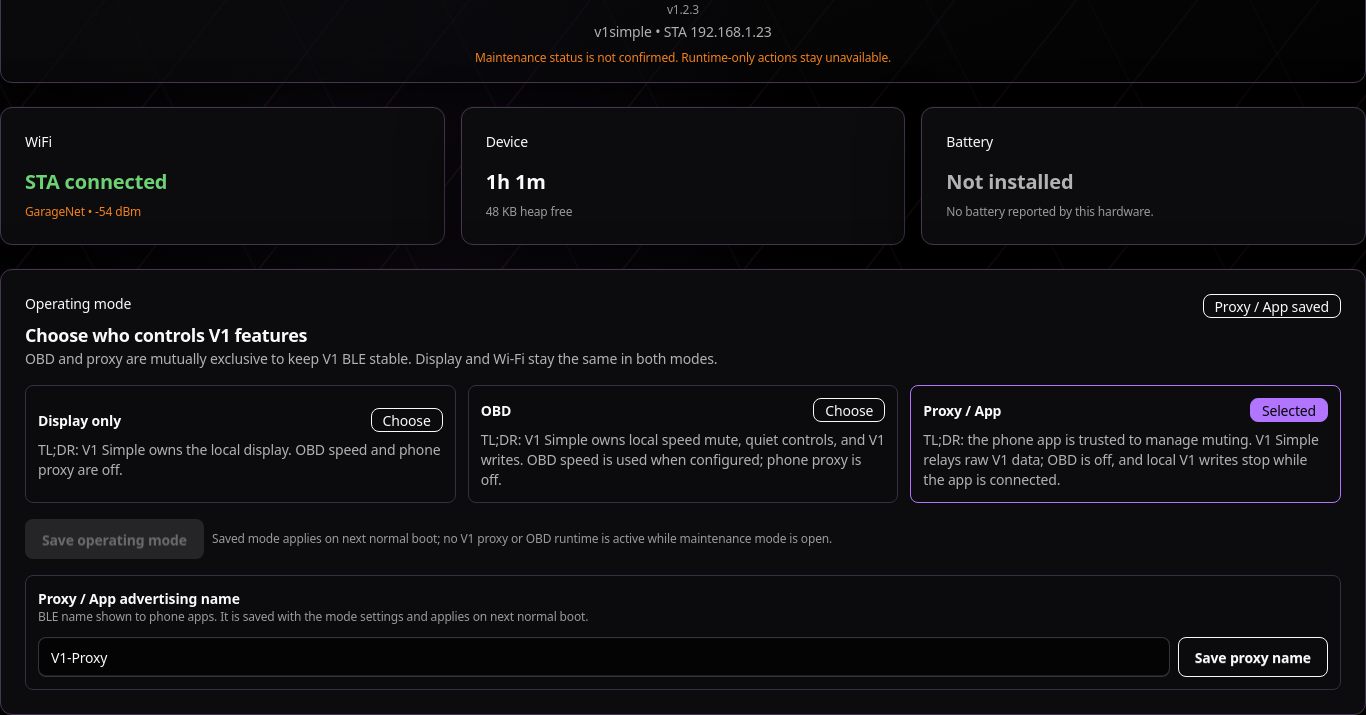
Test: dashboard route page › saves the proxy advertising name from the dashboard mode card
(page scrolled)
Expected: the text "Proxy / App saved" is shown, [1202,294,1341,318]
Replace the text in the field named "Proxy Name" with "Garage Proxy": (604, 657) [38,637,1170,677]
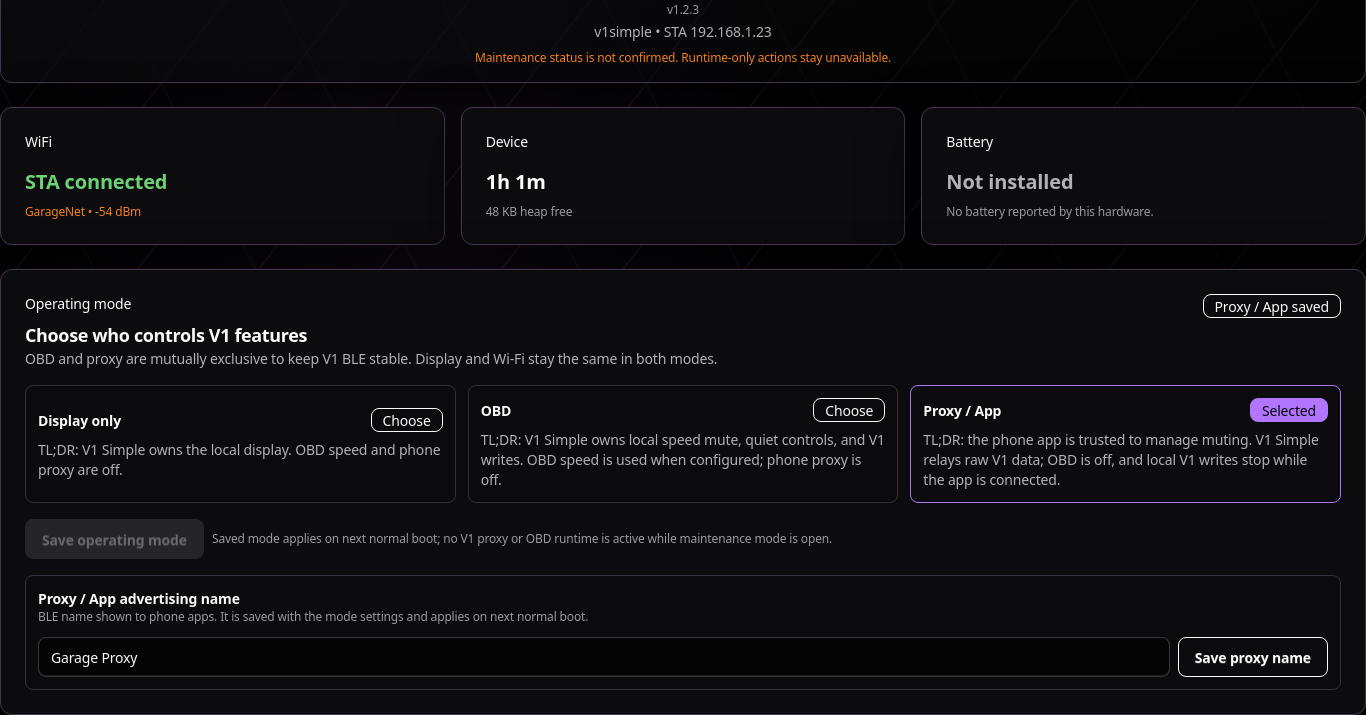
Click the button "Save proxy name": click(1253, 657) [1178,637,1328,677]
(page scrolled)
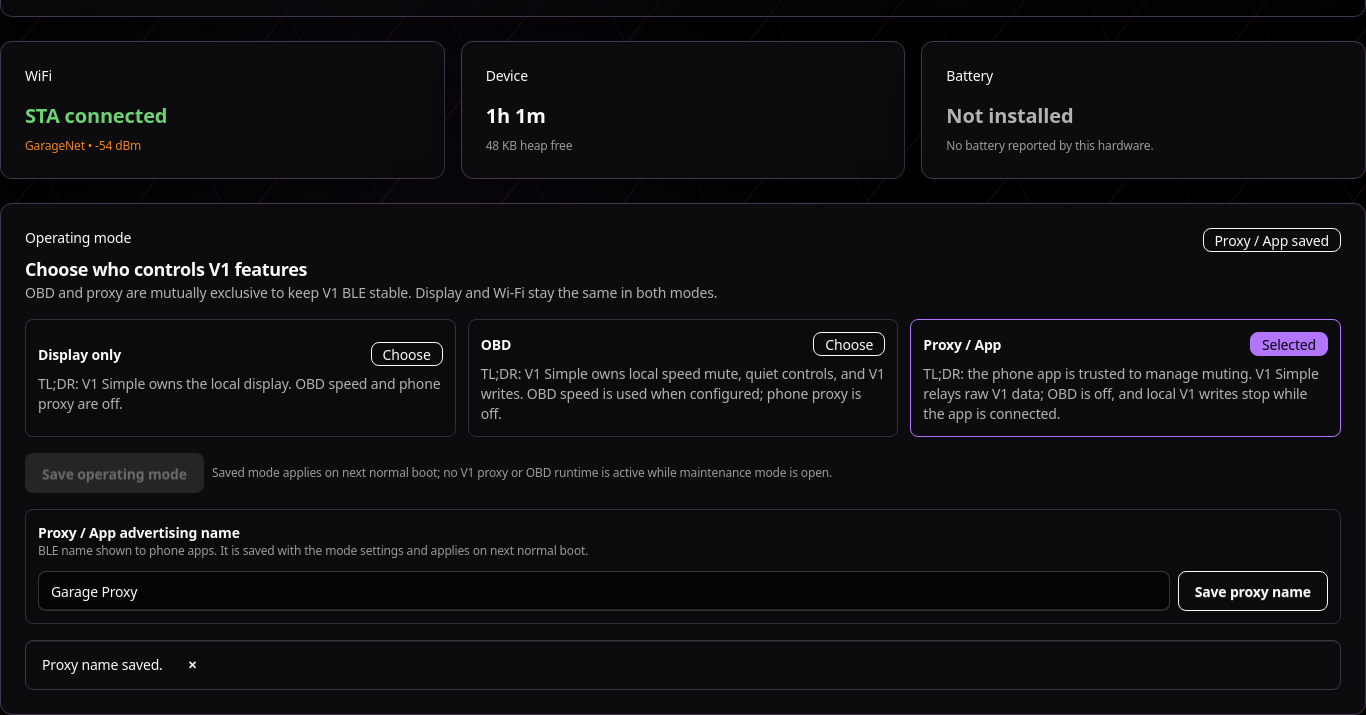
Now the text "Proxy name saved." is shown, box [42,655,163,675]
